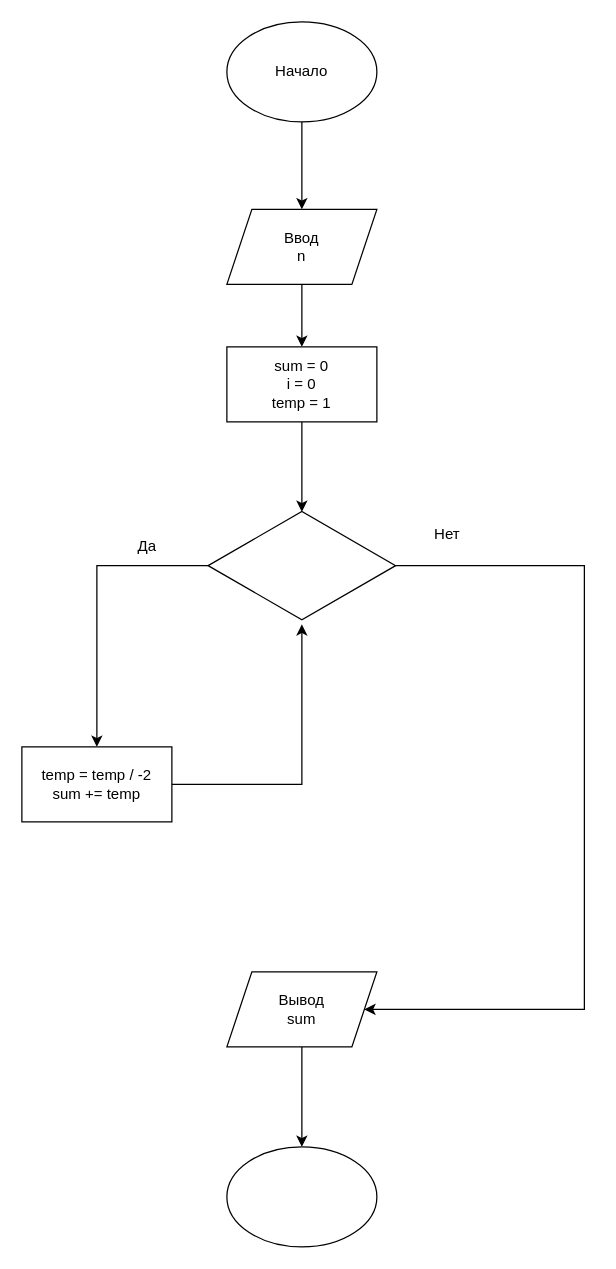
The diagram is 616 pixels wide and 1269 high, and some of its shapes have lost their labels. The shapes that lost their labels are listed below. From the top down, each one's centre as x and y in pixels, then its label:
[301,565]: while i < n
[301,1196]: Конец
